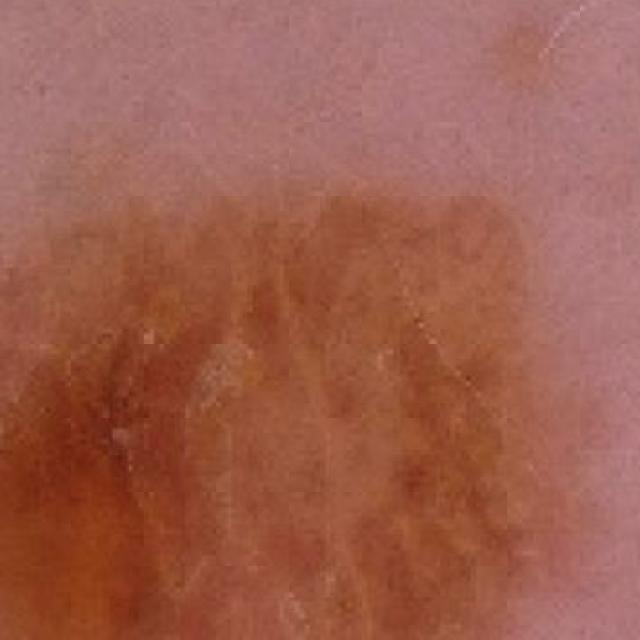BKL: (0, 146, 620, 640)
